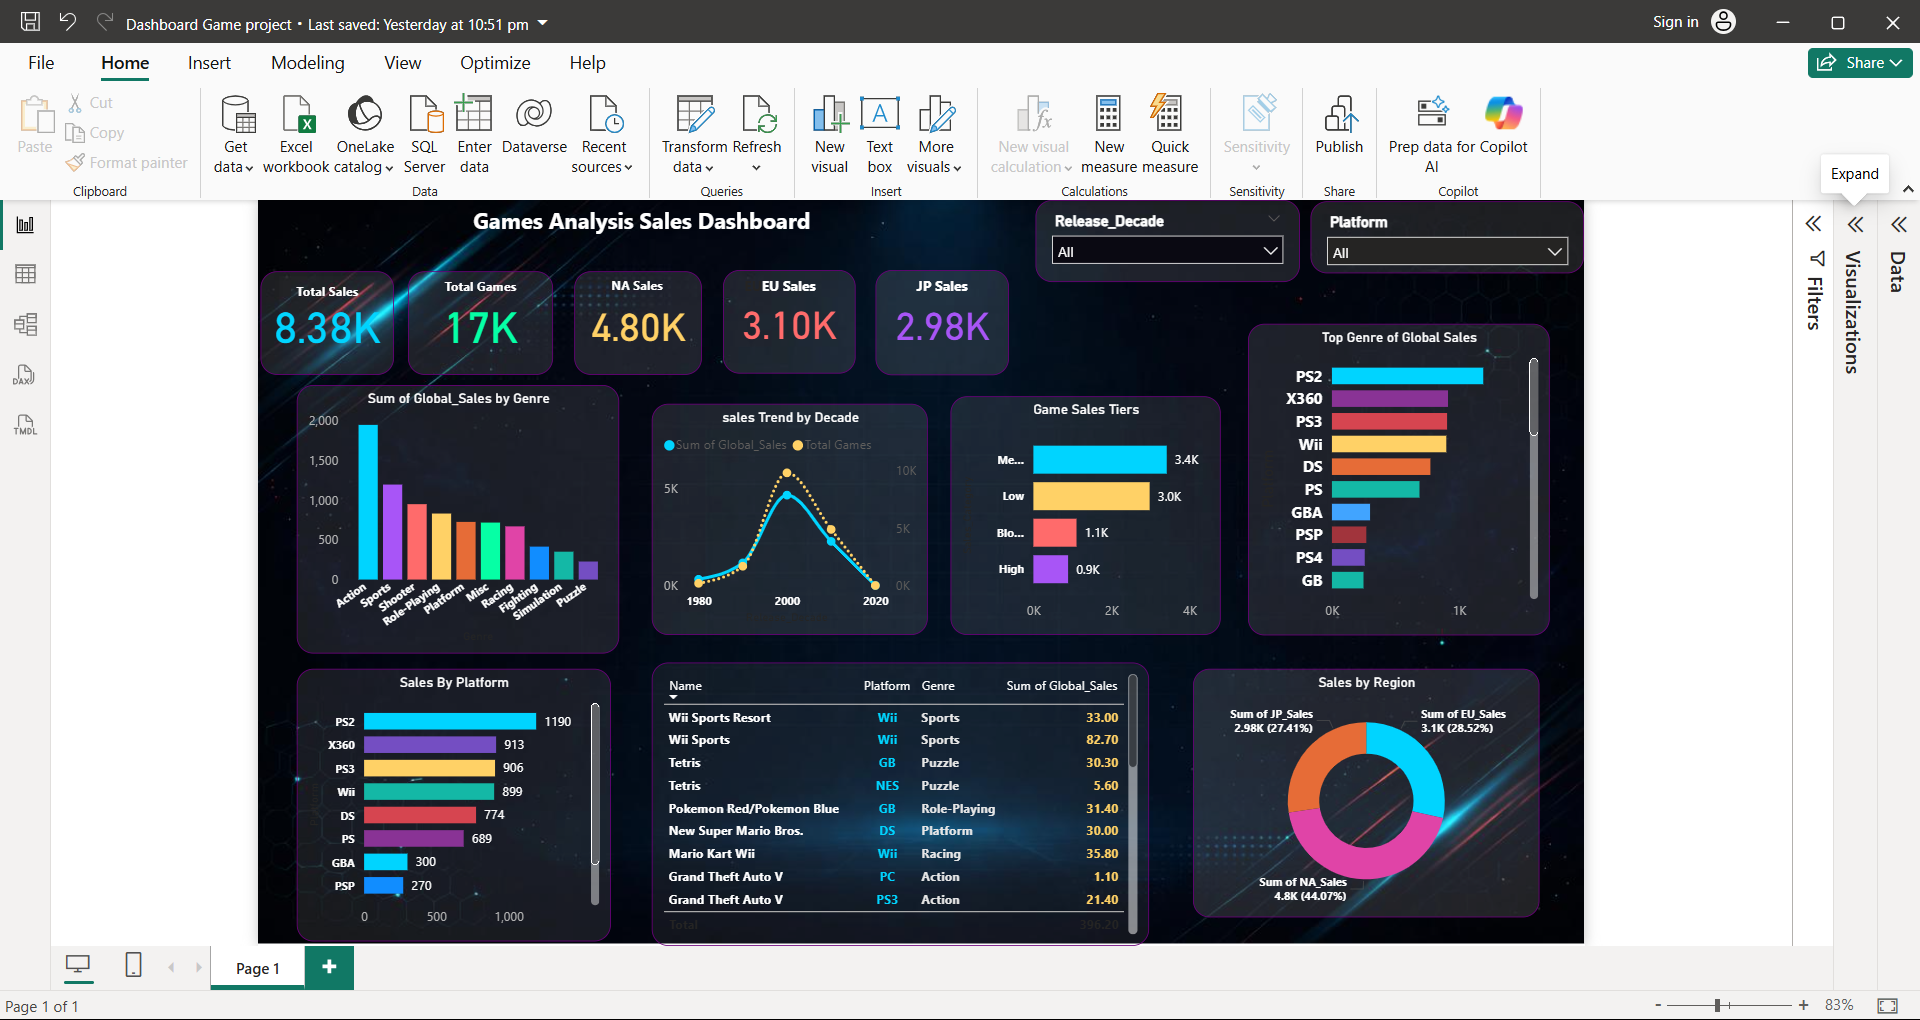

The dashboard page shown, as its layout file describes it:
{"tool":"powerbi","page":{"name":"Page 1","canvas":[1280,720],"ordinal":0},"visuals":[{"type":"textbox","box":[4.8,0,731.1,54.3],"z":0},{"type":"barChart","title":"Sales By Platform","fields":{"Category":["VideoGameClean.Platform"],"Y":["Sum(VideoGameClean.Global_Sales)"]},"box":[37.4,452.4,302.8,263],"z":1000},{"type":"columnChart","title":"Top Genre of Global Sales","fields":{"Category":["VideoGameClean1.Publisher"],"Y":["Sum(VideoGameClean1.Global_Sales)"]},"box":[935.9,119.4,323.8,300.5],"z":2000},{"type":"card","fields":{"Values":["VideoGameClean.Total Global Sales"]},"box":[2.4,68.8,129.1,100.1],"z":3000},{"type":"card","fields":{"Values":["VideoGameClean.Total Games"]},"box":[144.8,68.8,139.9,100.1],"z":4000},{"type":"card","fields":{"Values":["Sum(VideoGameClean.NA_Sales)"]},"box":[304.6,68.6,123.5,100.2],"z":5000},{"type":"card","fields":{"Values":["Sum(VideoGameClean.EU_Sales)"]},"box":[448.7,67.2,127.6,100.2],"z":6000},{"type":"card","fields":{"Values":["Sum(VideoGameClean.JP_Sales)"]},"box":[595.5,67.2,129,101.5],"z":7000},{"type":"columnChart","fields":{"Category":["VideoGameClean.Genre"],"Y":["Sum(VideoGameClean.Global_Sales)"]},"box":[37.4,178.6,311.3,259.4],"z":8000},{"type":"lineChart","title":"sales Trend by Decade","fields":{"Category":["VideoGameClean.Release_Decade"],"Y":["Sum(VideoGameClean.Global_Sales)"],"Y2":["VideoGameClean.Total Games"]},"box":[380.1,178.4,240.1,241.5],"z":9000},{"type":"slicer","fields":{"Values":["VideoGameClean.Release_Decade"]},"box":[750.6,0,255.2,79.6],"z":10000},{"type":"slicer","fields":{"Values":["VideoGameClean.Platform"]},"box":[1015.4,1.4,264.8,78.2],"z":11000},{"type":"tableEx","title":"Sales by Region Comparison","fields":{"Values":["VideoGameClean.Name","VideoGameClean.Platform","VideoGameClean.Genre","Sum(VideoGameClean.Global_Sales)"]},"box":[380.1,446,498.1,274.4],"z":12000},{"type":"donutChart","title":"Sales by Region","fields":{"Y":["Sum(VideoGameClean.EU_Sales)","Sum(VideoGameClean.NA_Sales)","Sum(VideoGameClean.JP_Sales)"]},"box":[935.9,452.8,323.8,240.1],"z":13000},{"type":"clusteredBarChart","title":"Game Sales Tiers","fields":{"Category":["VideoGameClean.Sales_Category"],"Y":["VideoGameClean.Total Global Sales"]},"box":[639.5,183.9,269,230.5],"z":14000},{"type":"textbox","box":[20.5,73.6,92.9,45.8],"z":15000},{"type":"textbox","box":[162.9,68.8,103.8,38.6],"z":16000},{"type":"textbox","box":[314.2,67.2,104.3,39.8],"z":17000},{"type":"textbox","box":[463.8,68.6,81,38.4],"z":18000},{"type":"textbox","box":[607.9,68.6,104.3,39.8],"z":19000}]}

Visuals, with their boxes on the page's 1280x720 design canvas (x1, y1, x2, y2). These are canvas units, not pixel positions in the 1920x1020 screenshot, which may show the page scaled, cropped or inside an application window:
textbox: detection(5, 0, 736, 54)
"Sales By Platform" barChart: detection(37, 452, 340, 715)
"Top Genre of Global Sales" columnChart: detection(936, 119, 1260, 420)
card - VideoGameClean.Total Global Sales: detection(2, 69, 132, 169)
card - VideoGameClean.Total Games: detection(145, 69, 285, 169)
card - Sum(VideoGameClean.NA_Sales): detection(305, 69, 428, 169)
card - Sum(VideoGameClean.EU_Sales): detection(449, 67, 576, 167)
card - Sum(VideoGameClean.JP_Sales): detection(596, 67, 724, 169)
columnChart - VideoGameClean.Genre x Sum(VideoGameClean.Global_Sales): detection(37, 179, 349, 438)
"sales Trend by Decade" lineChart: detection(380, 178, 620, 420)
slicer - VideoGameClean.Release_Decade: detection(751, 0, 1006, 80)
slicer - VideoGameClean.Platform: detection(1015, 1, 1280, 80)
"Sales by Region Comparison" tableEx: detection(380, 446, 878, 720)
"Sales by Region" donutChart: detection(936, 453, 1260, 693)
"Game Sales Tiers" clusteredBarChart: detection(640, 184, 908, 414)
textbox: detection(20, 74, 113, 119)
textbox: detection(163, 69, 267, 107)
textbox: detection(314, 67, 418, 107)
textbox: detection(464, 69, 545, 107)
textbox: detection(608, 69, 712, 108)
